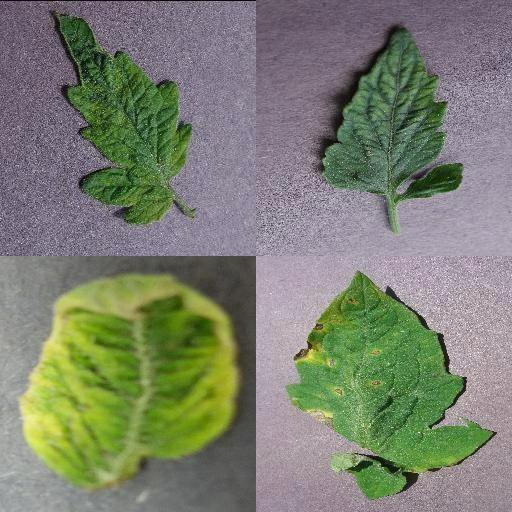Mosaic Virus: (53, 9, 195, 227), (319, 25, 465, 202)
Septoria: (284, 269, 494, 469)
Yellow Leaf Curl Virus: (18, 272, 240, 490)
